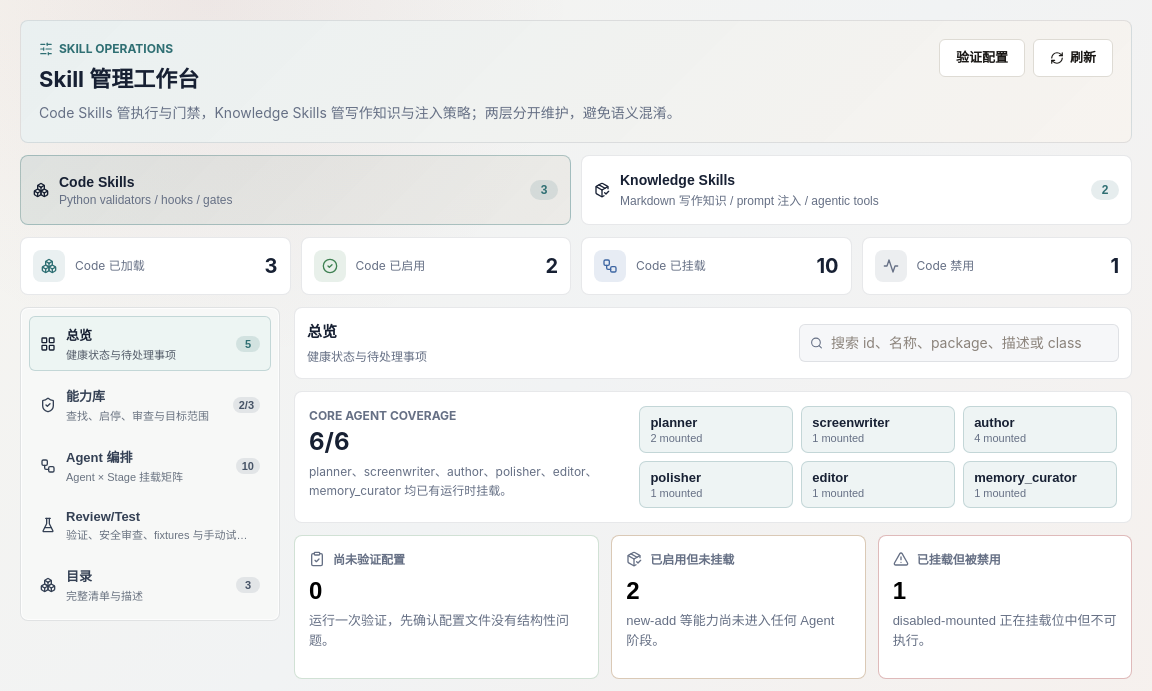
Test case: SkillVisibilityPanel › shows core Agent coverage and stage explanations
The width and height of the screenshot is (1152, 691).
Expected: the text "Core Agent coverage" is shown, top-left (309, 408), bottom-right (456, 423)
Expected: the text "6/6" is shown, top-left (309, 428), bottom-right (350, 456)
Click the button "Agent 编排 Agent × Stage 挂载矩阵 10": (150, 466) top-left (29, 438), bottom-right (271, 493)
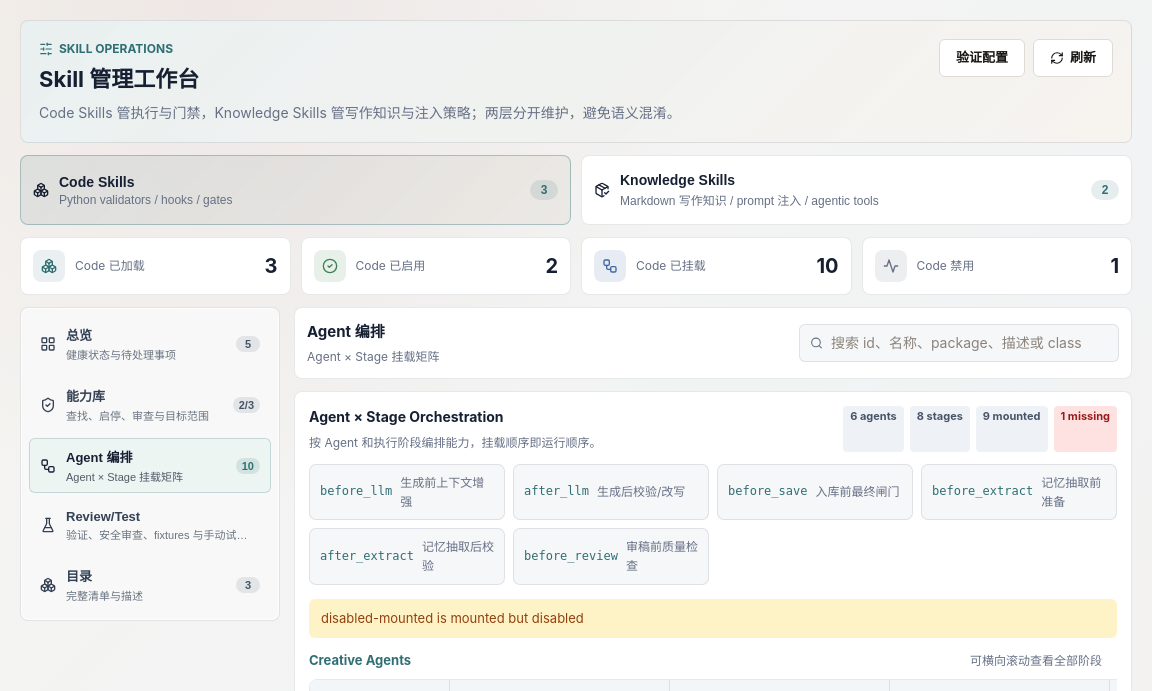
Expected: the text "生成前上下文增强" is shown, top-left (400, 473), bottom-right (494, 511)
Expected: the text "生成后校验/改写" is shown, top-left (597, 482), bottom-right (685, 502)
Expected: the text "记忆抽取后校验" is shown, top-left (422, 537), bottom-right (494, 576)
